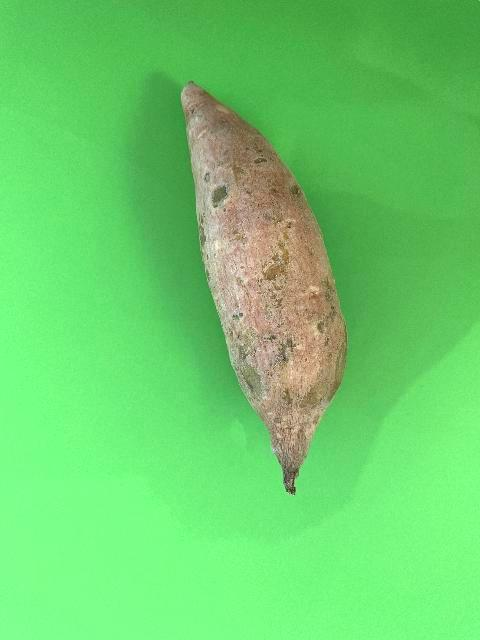sweetpotato: (181, 78, 350, 498)
